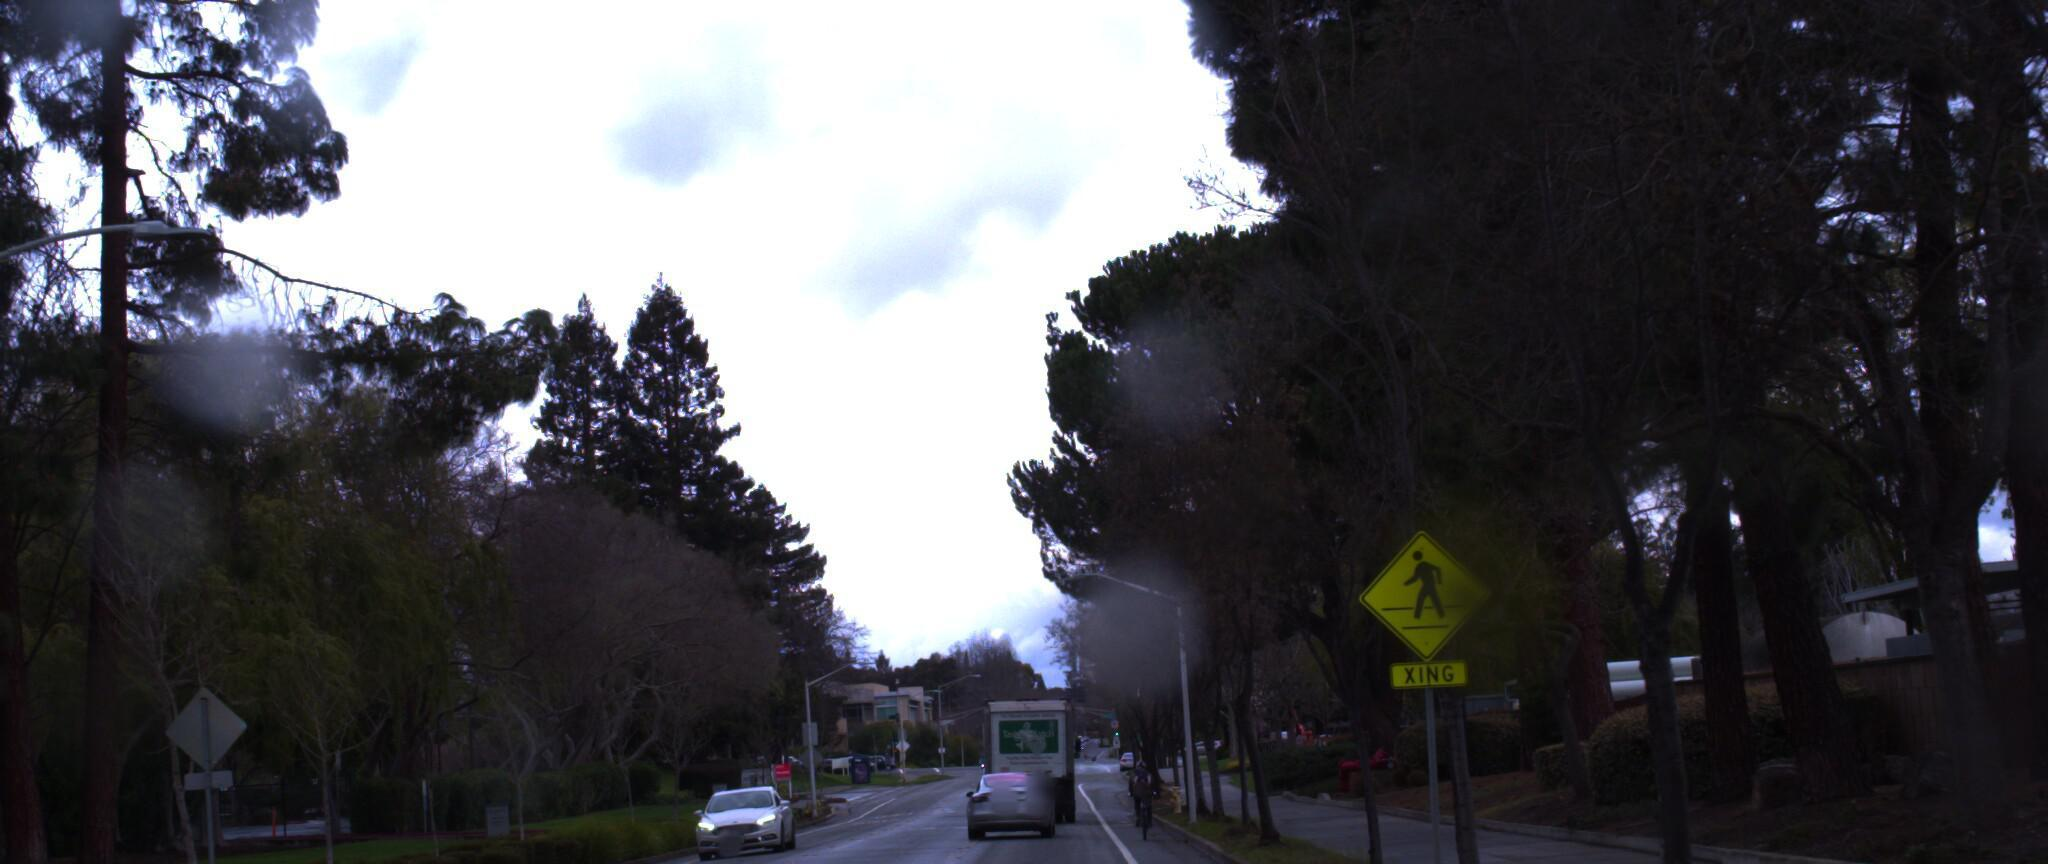bicycle: (1128, 748, 1166, 830)
car: (687, 783, 793, 864), (967, 767, 1055, 847)
